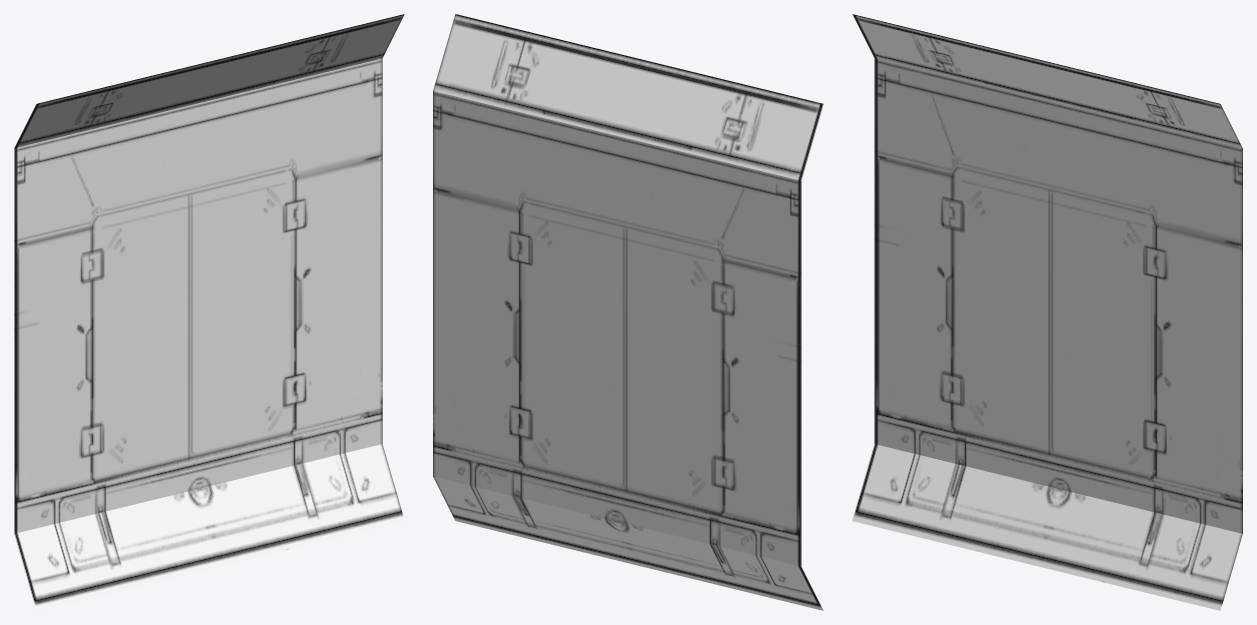
Rendered from WallsidepCube8.fbx.
3 views of the same model, side by side, from view 1: azimuth 30°, elevation 25°; view 2: azimuth 150°, elevation 25°; view 3: azimuth 330°, elevation 25° (orthographic).
Parts seen in each view (by area): view 1: pCube8; view 2: pCube8; view 3: pCube8.
Boxes of the visible parts, left/top/right/bottom form: pCube8: left=14, top=14, right=404, bottom=610; pCube8: left=433, top=14, right=823, bottom=610; pCube8: left=852, top=14, right=1242, bottom=610.
Bounding box in the file's own units: 100 × 132 × 10.49.
1 material, 1 textured.
